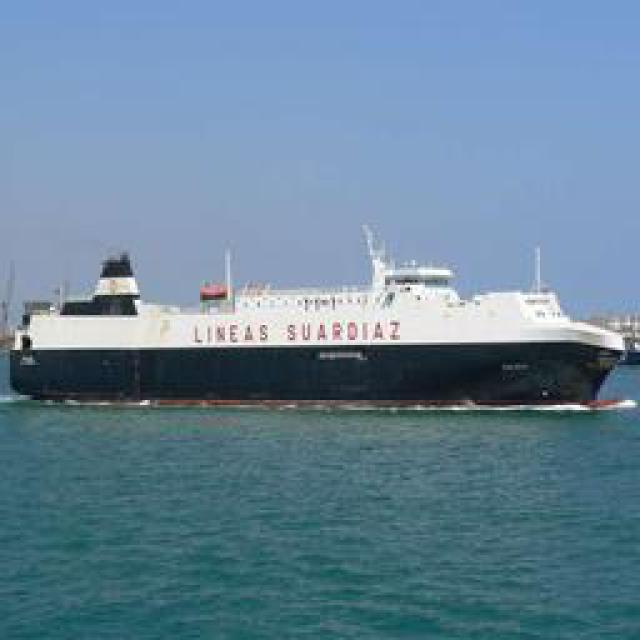Ship: (26, 230, 636, 413)
